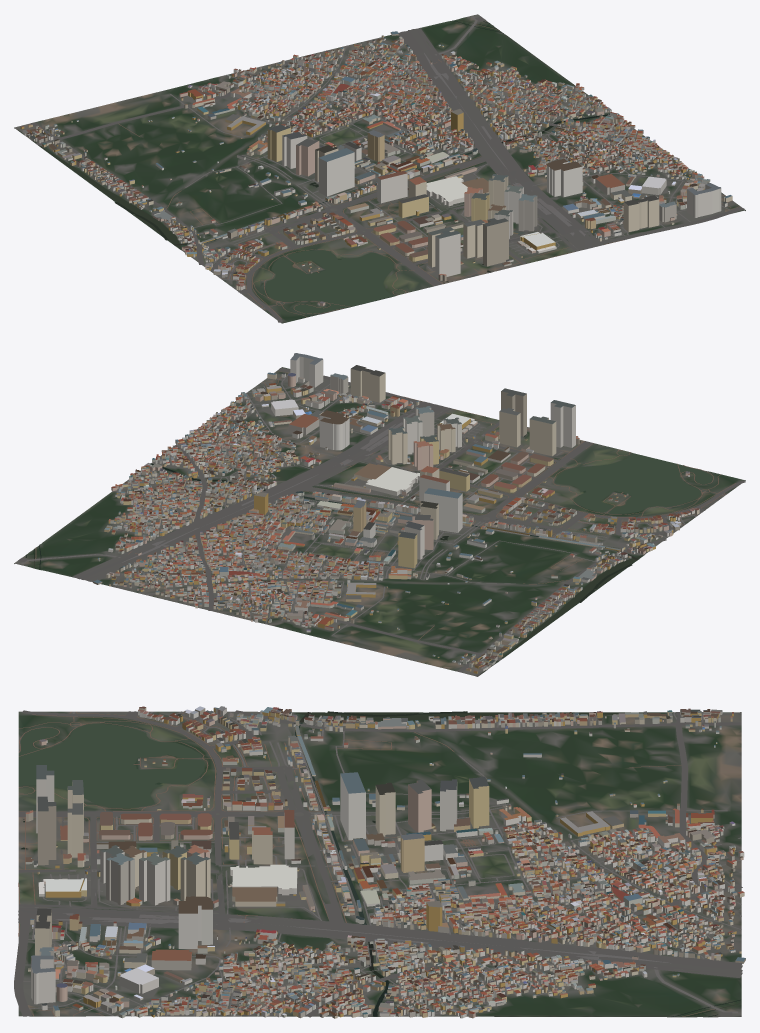
3 views of the same model, one above another, from view 1: azimuth 30°, elevation 25°; view 2: azimuth 150°, elevation 25°; view 3: azimuth 270°, elevation 25° (orthographic). The views are drawn at different scales.
Parts seen in each view (by area): view 1: buildings, ground, roads, water; view 2: buildings, ground, roads, water; view 3: buildings, ground, roads, water.
Boxes of the visible parts, box(x1,y1,x2,y2) form: buildings: box(20, 31, 732, 306); ground: box(14, 14, 745, 323); roads: box(31, 16, 744, 322); water: box(18, 19, 609, 313); buildings: box(93, 353, 699, 673); ground: box(14, 367, 745, 676); roads: box(18, 368, 745, 672); water: box(25, 435, 712, 674); buildings: box(25, 706, 745, 1018); ground: box(18, 711, 741, 1017); roads: box(14, 710, 742, 1017); water: box(19, 711, 741, 1017).
Size of the model in its own units: 1417 by 123 by 1419.
